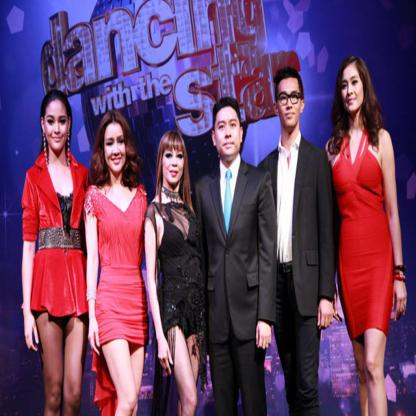face: (46, 100, 70, 152), (217, 107, 241, 158), (342, 63, 365, 116), (279, 78, 302, 129), (105, 122, 127, 174), (164, 143, 185, 185)
